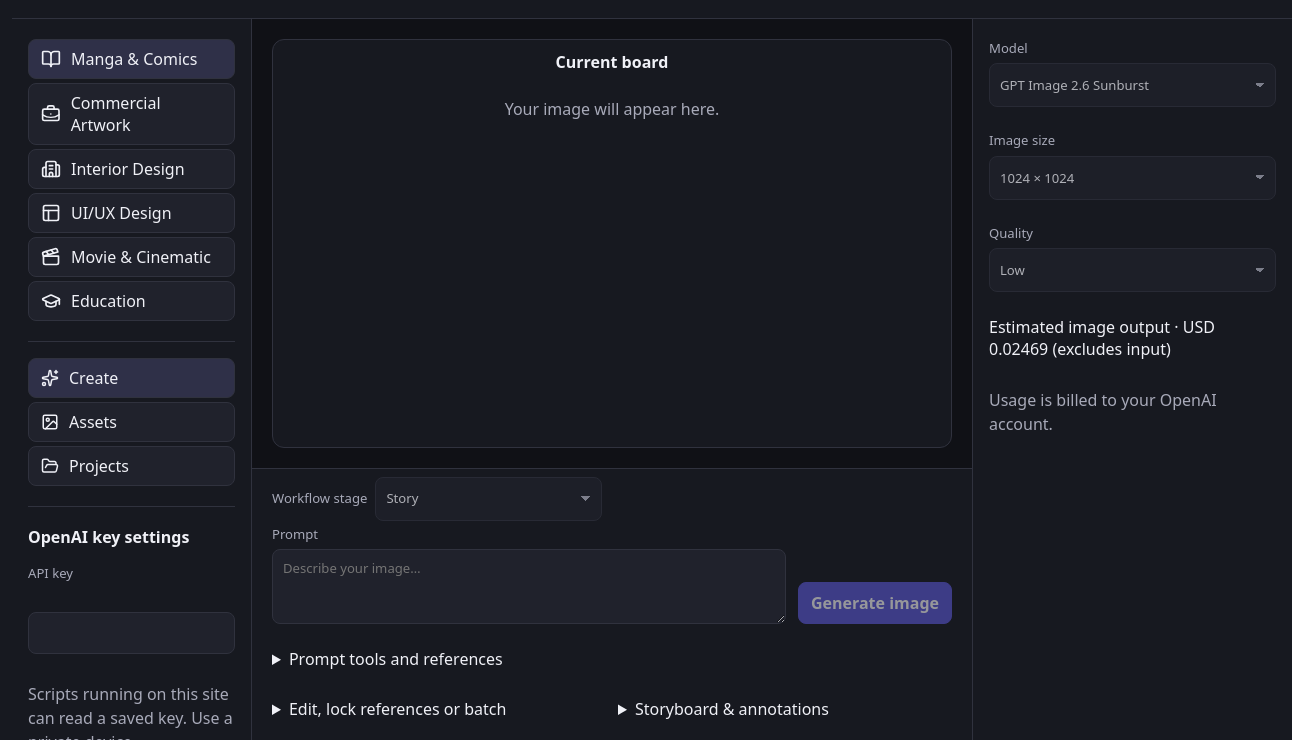
Test: preserves an unsaved, conflicted board edit when switching projects
Later steps or results of the test are not shown.
Click the heading "Storyboard & annotations" at (732, 709), box [635, 698, 829, 720]
(page scrolled)
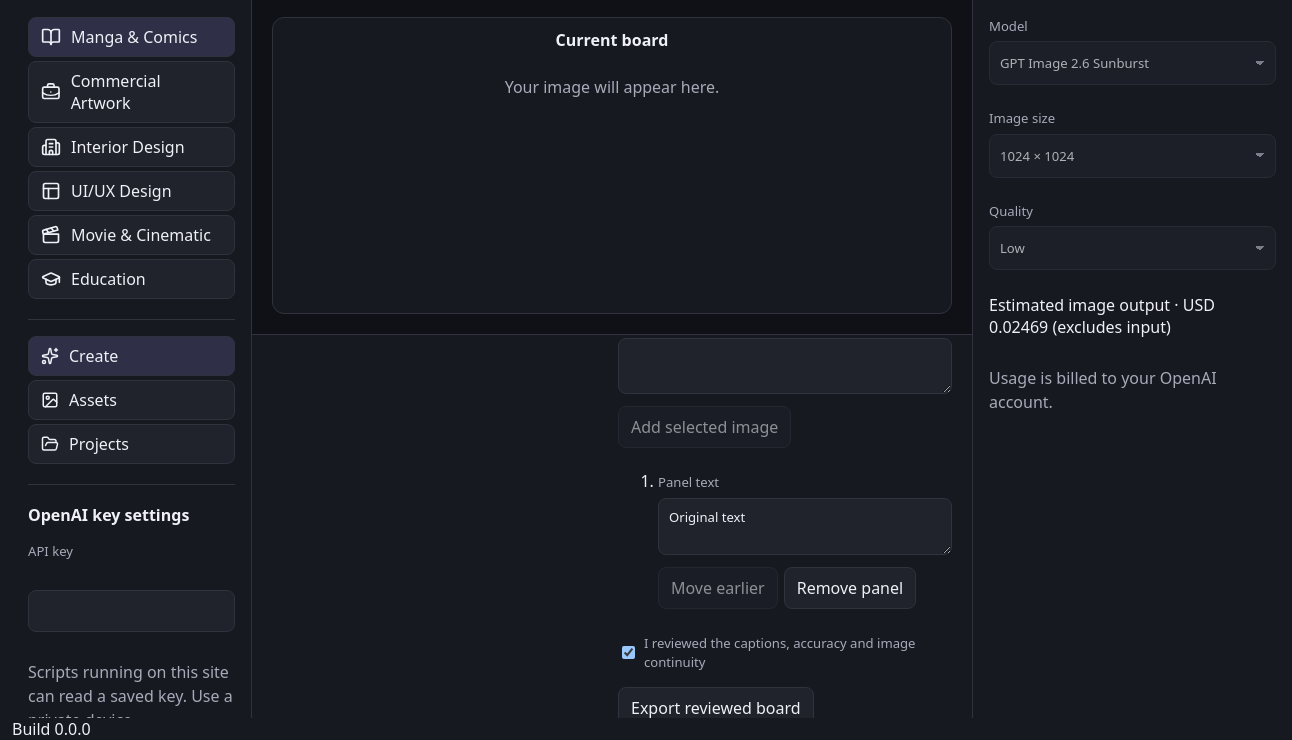
Replace the text in the text box labelled "Panel text" with "My unsaved text" at (805, 526), box [658, 498, 952, 554]
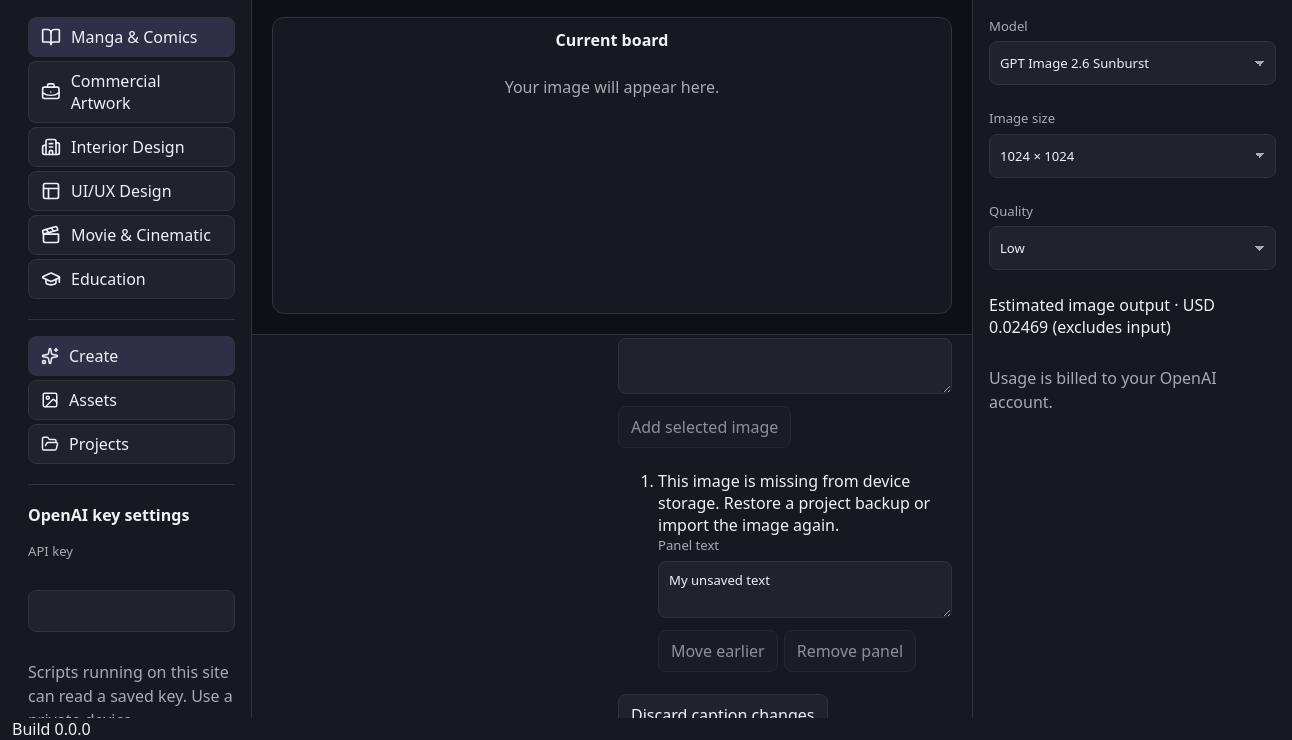
Click the button "Projects" at (132, 444), box [28, 424, 235, 464]
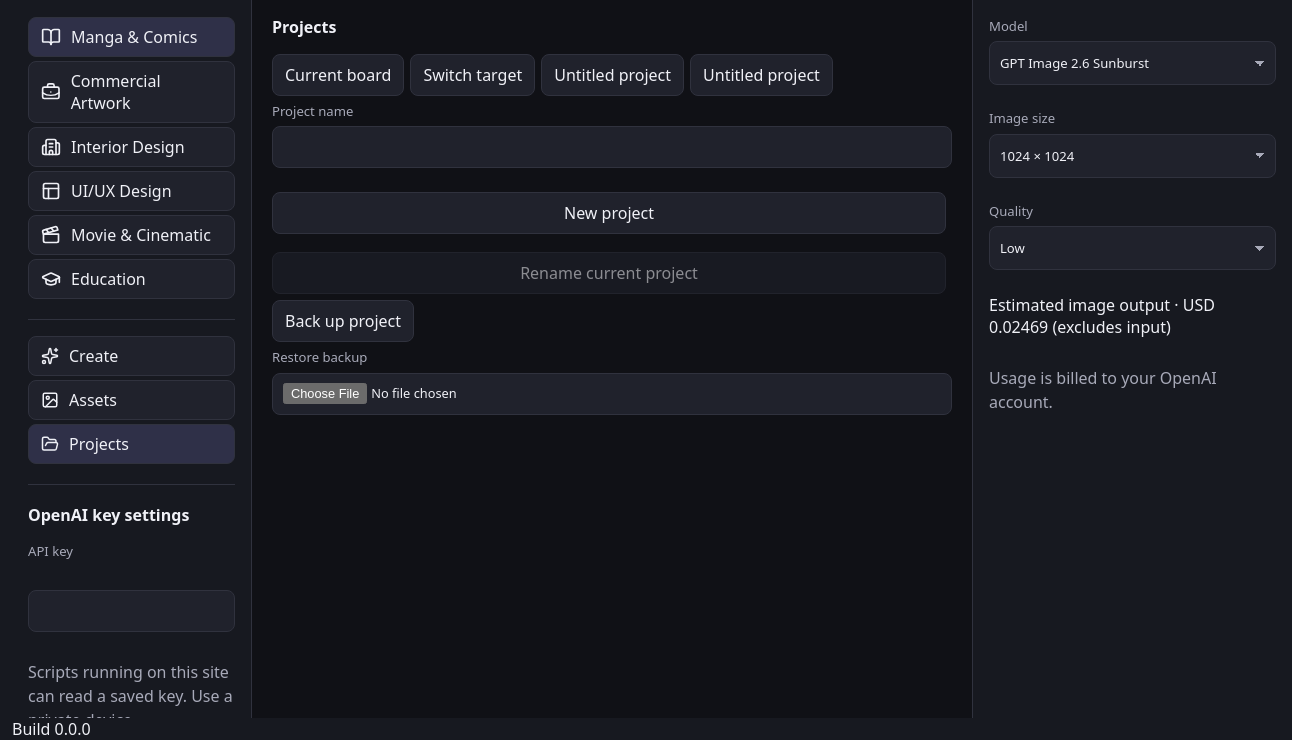
Click the button "Switch target" at (473, 75), box [410, 54, 535, 96]
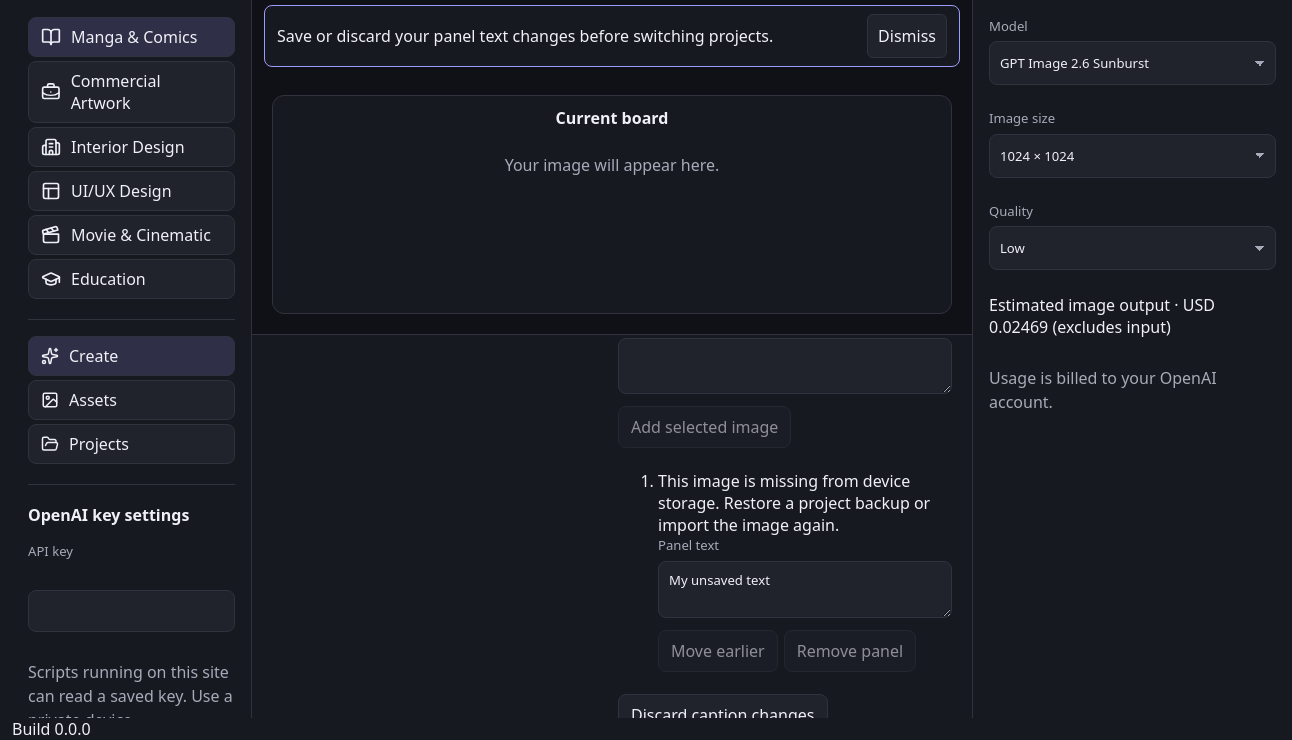
Check: the text "Save or discard your panel text changes before switching projects." is shown, box [277, 25, 773, 47]
Click the button "Discard caption changes" at (723, 714), box [618, 694, 828, 736]
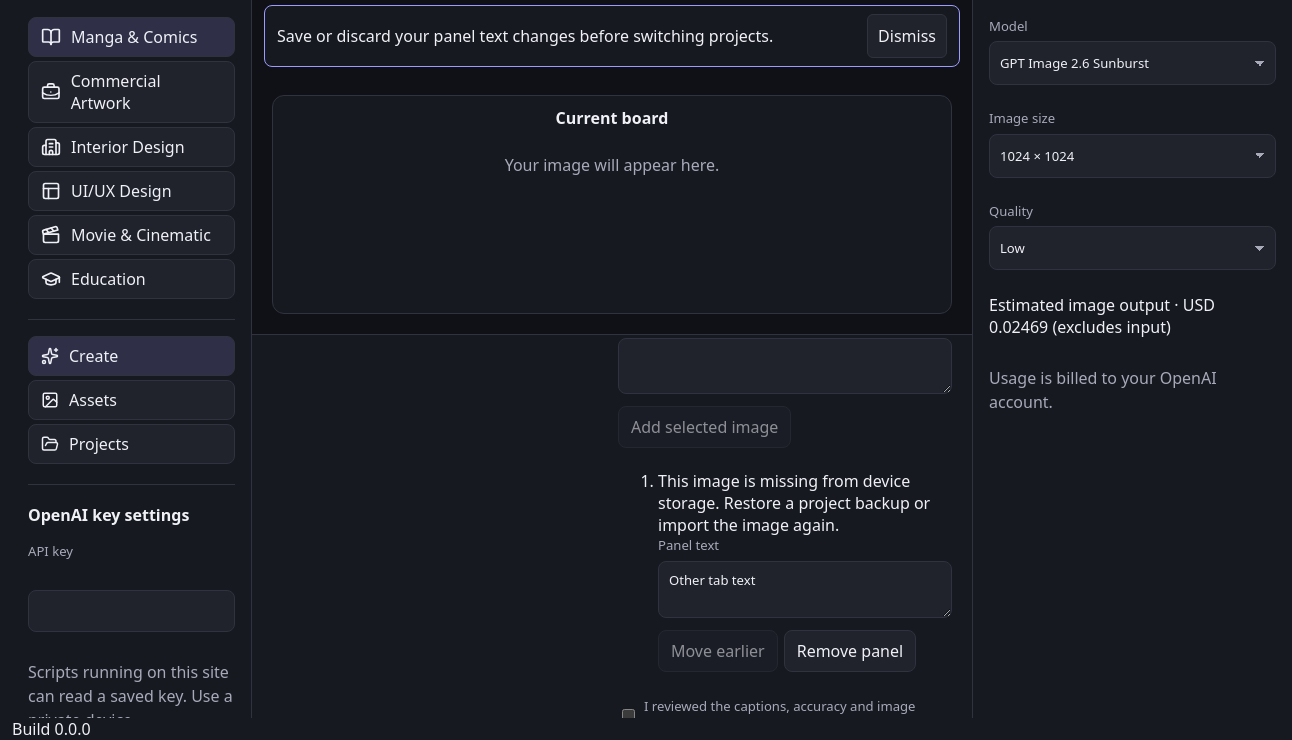
Check: the text box labelled "Panel text" holds "Other tab text", box [658, 561, 952, 618]
